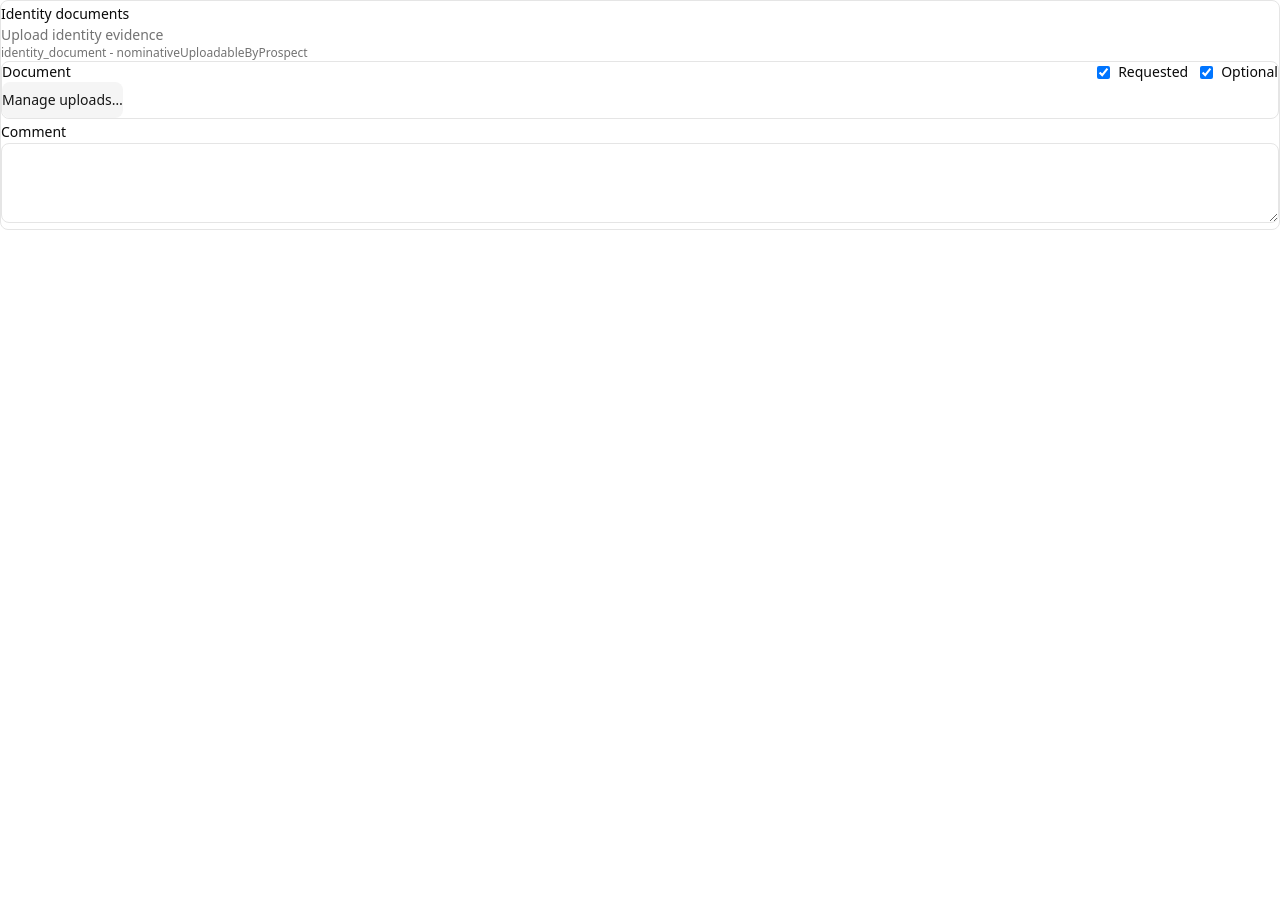
it: DocumentCard › given uploadable document config, should expose file picker in manage popin
Step 1. Click the button "Manage uploads…" → x=62, y=100, box 2,82 -> 123,118
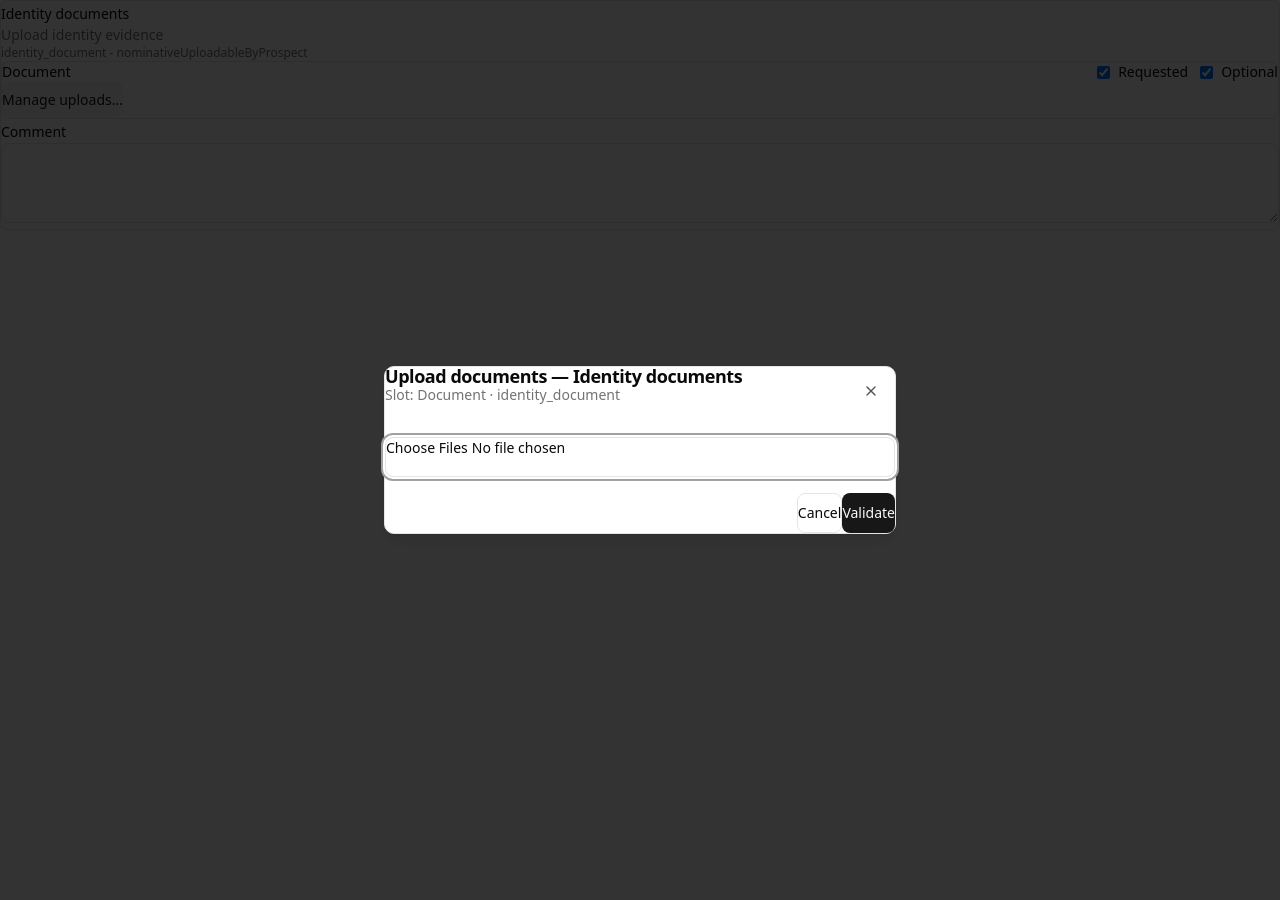
Expected: the number of file fields is 1, 385,437 -> 895,477
